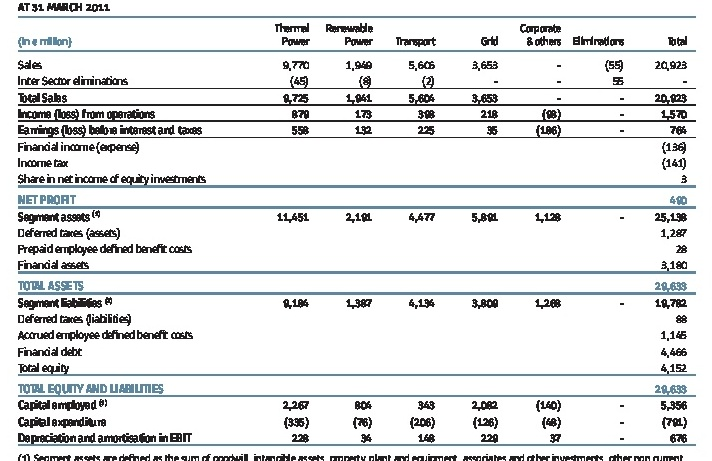table: (0, 0, 712, 461)
